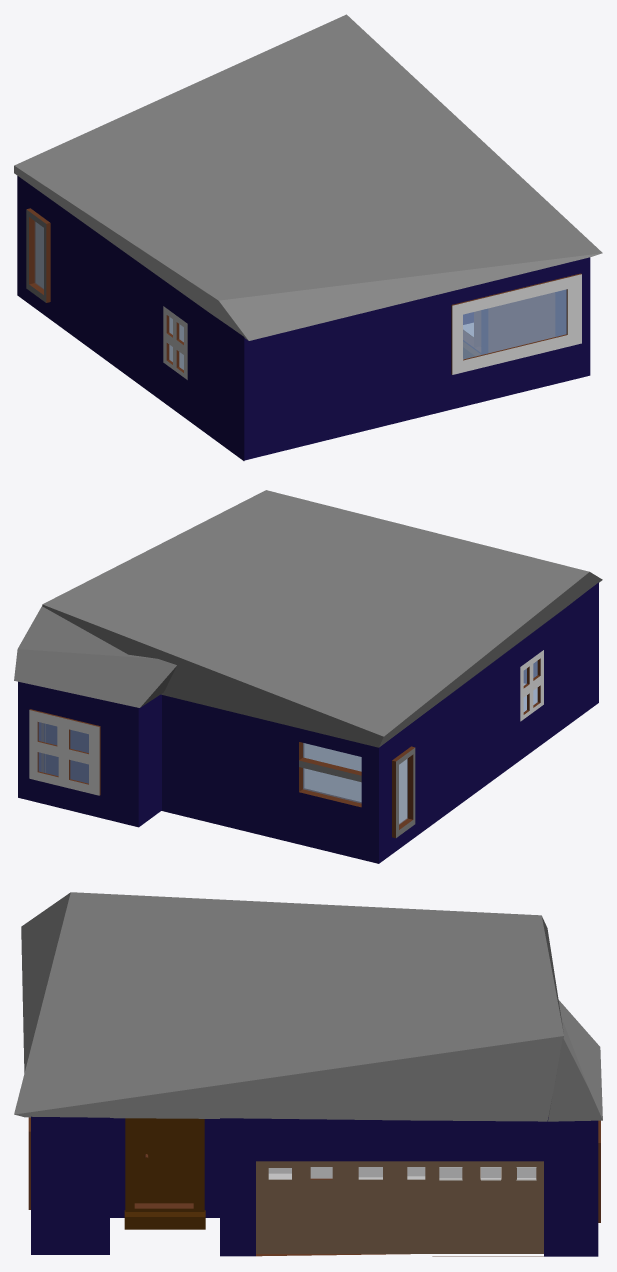
The model's file is house5.fbx.
3 views of the same model, one above another, from view 1: azimuth 30°, elevation 25°; view 2: azimuth 150°, elevation 25°; view 3: azimuth 270°, elevation 25° (orthographic). The views are drawn at different scales.
Parts seen in each view (by area): view 1: Cube, SketchUp, SketchUp.009, SketchUp.010, Cube.002, SketchUp.001, SketchUp.048, SketchUp.054, Cube.005; view 2: Cube, SketchUp, Cube.001, SketchUp.017, Cube.003, SketchUp.063, SketchUp.048, SketchUp.062, SketchUp.060, SketchUp.054, Cube.005, SketchUp.053; view 3: Cube, SketchUp, SketchUp.004, SketchUp.005, SketchUp.006, Cube.001, SketchUp.023, Cube.004.
Boxes of the visible parts, x1,y1,x2,y2 form: Cube: [14, 14, 602, 340]; SketchUp: [17, 176, 590, 460]; SketchUp.009: [463, 289, 566, 359]; SketchUp.010: [452, 274, 581, 374]; Cube.002: [327, 325, 370, 410]; SketchUp.001: [488, 292, 554, 352]; SketchUp.048: [163, 306, 187, 379]; SketchUp.054: [26, 209, 46, 302]; Cube.005: [34, 221, 43, 289]; Cube: [42, 490, 602, 747]; SketchUp: [18, 582, 598, 863]; Cube.001: [14, 606, 176, 707]; SketchUp.017: [29, 710, 99, 795]; Cube.003: [172, 712, 253, 783]; SketchUp.063: [303, 768, 361, 803]; SketchUp.048: [520, 650, 543, 721]; SketchUp.062: [303, 743, 361, 771]; SketchUp.060: [299, 742, 361, 807]; SketchUp.054: [396, 748, 415, 837]; Cube.005: [399, 758, 407, 824]; SketchUp.053: [399, 754, 413, 829]; Cube: [14, 892, 563, 1121]; SketchUp: [31, 1116, 598, 1256]; SketchUp.004: [256, 1161, 430, 1253]; SketchUp.005: [430, 1161, 543, 1253]; SketchUp.006: [134, 1122, 193, 1203]; Cube.001: [548, 1000, 602, 1121]; SketchUp.023: [125, 1118, 204, 1211]; Cube.004: [124, 1210, 205, 1229].
Bounding box in the file's own units: 2078 × 1073 × 2603.
